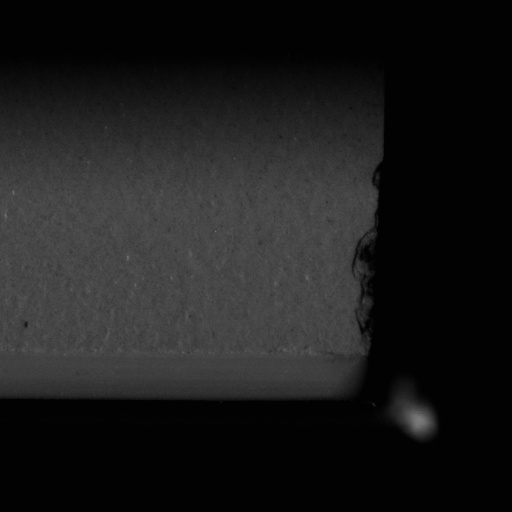bengque: (350, 232, 385, 358)
